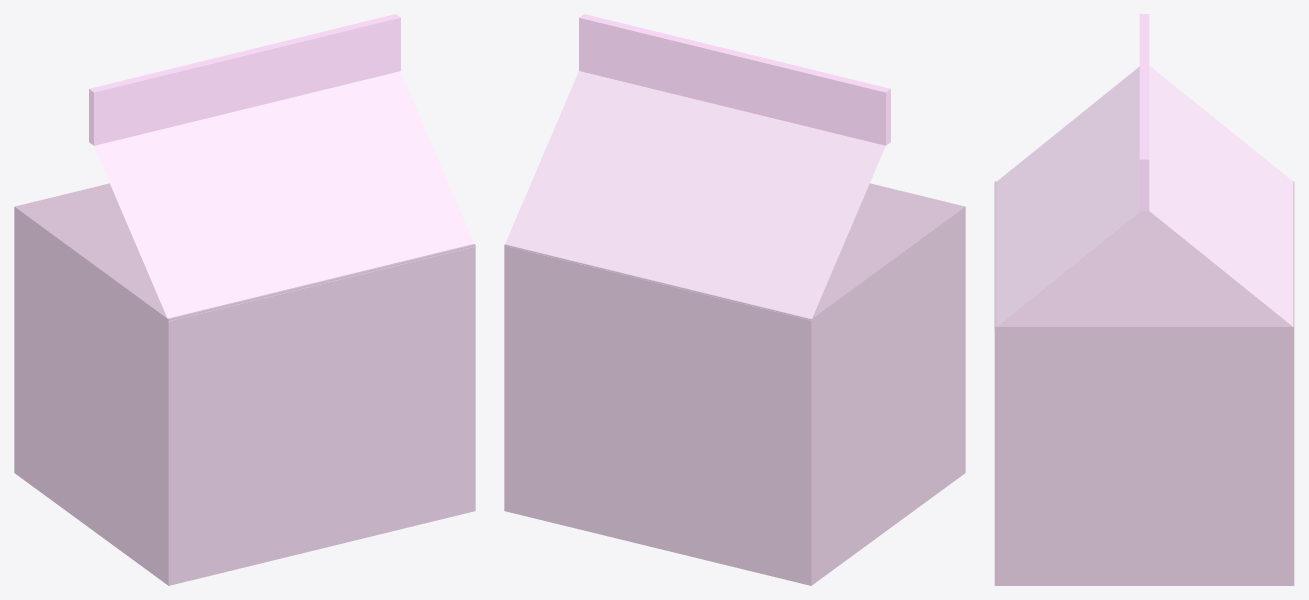
3 views of the same model, side by side, from view 1: azimuth 30°, elevation 25°; view 2: azimuth 150°, elevation 25°; view 3: azimuth 270°, elevation 25° (orthographic). The views are drawn at different scales.
Visible parts, largest first — view 1: Box (×2), Plane; view 2: Box (×2), Plane; view 3: Box (×2), Plane (×2).
Boxes of the visible parts, x1,y1,x2,y2 form: Box (×2): (14, 14, 475, 585); Plane: (94, 71, 474, 321); Box (×2): (504, 14, 965, 585); Plane: (505, 71, 885, 320); Box (×2): (994, 14, 1294, 585); Plane (×2): (994, 66, 1294, 328).
Size of the model in its own units: 8.27 by 11.3 by 7.21.
